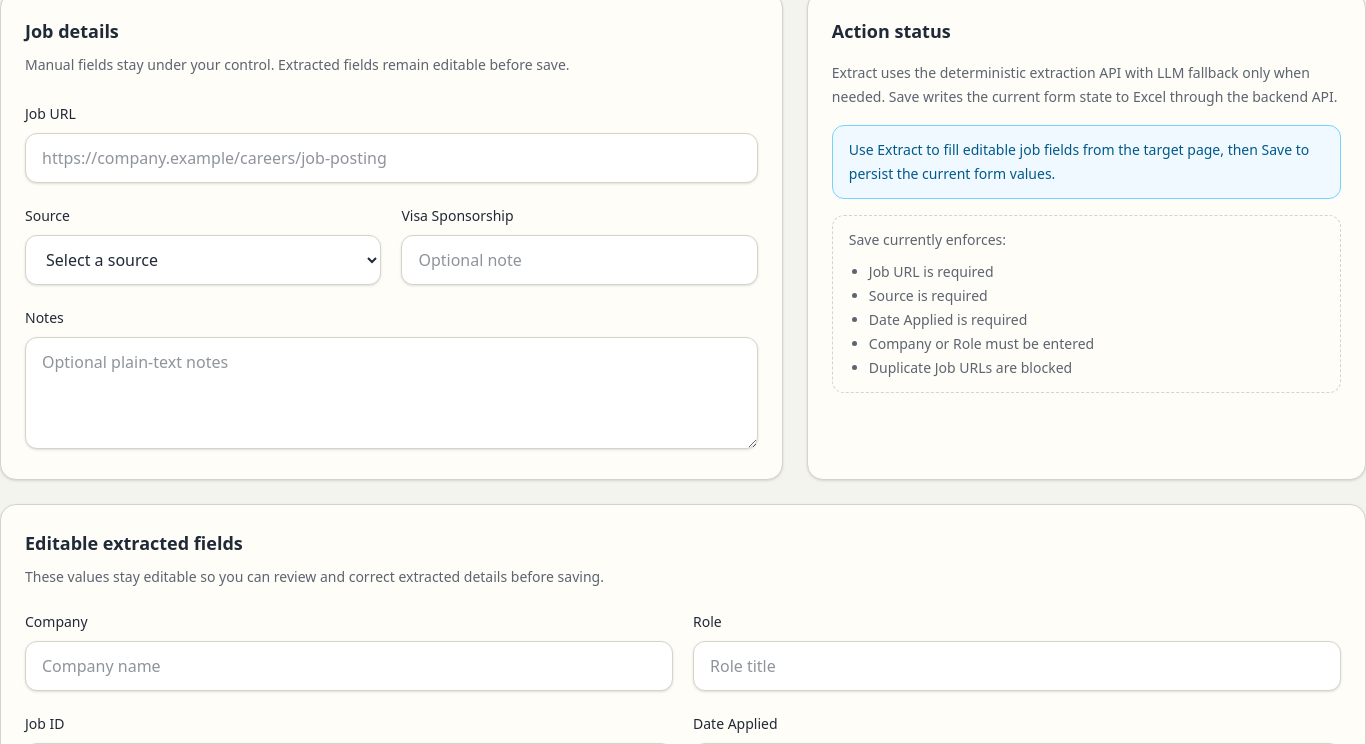
AddJobForm › preserves user-entered extracted fields when extraction returns data
The width and height of the screenshot is (1366, 744).
In the field labelled "Job URL": (391,158) 25,133 -> 758,183, type "https://jobs.example.com/frontend-role?utm_source=test"
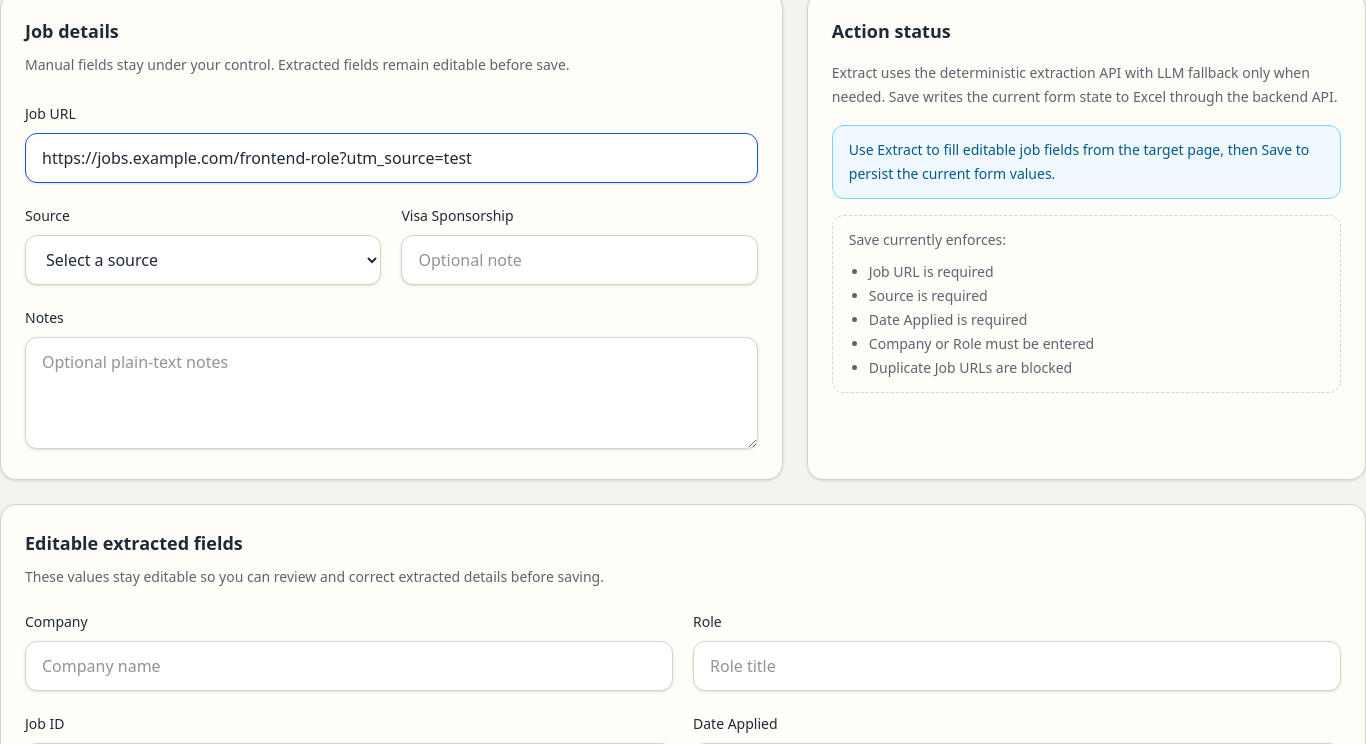
Select "LinkedIn" in the dropdown labelled "Source": (203,260) 25,235 -> 381,285
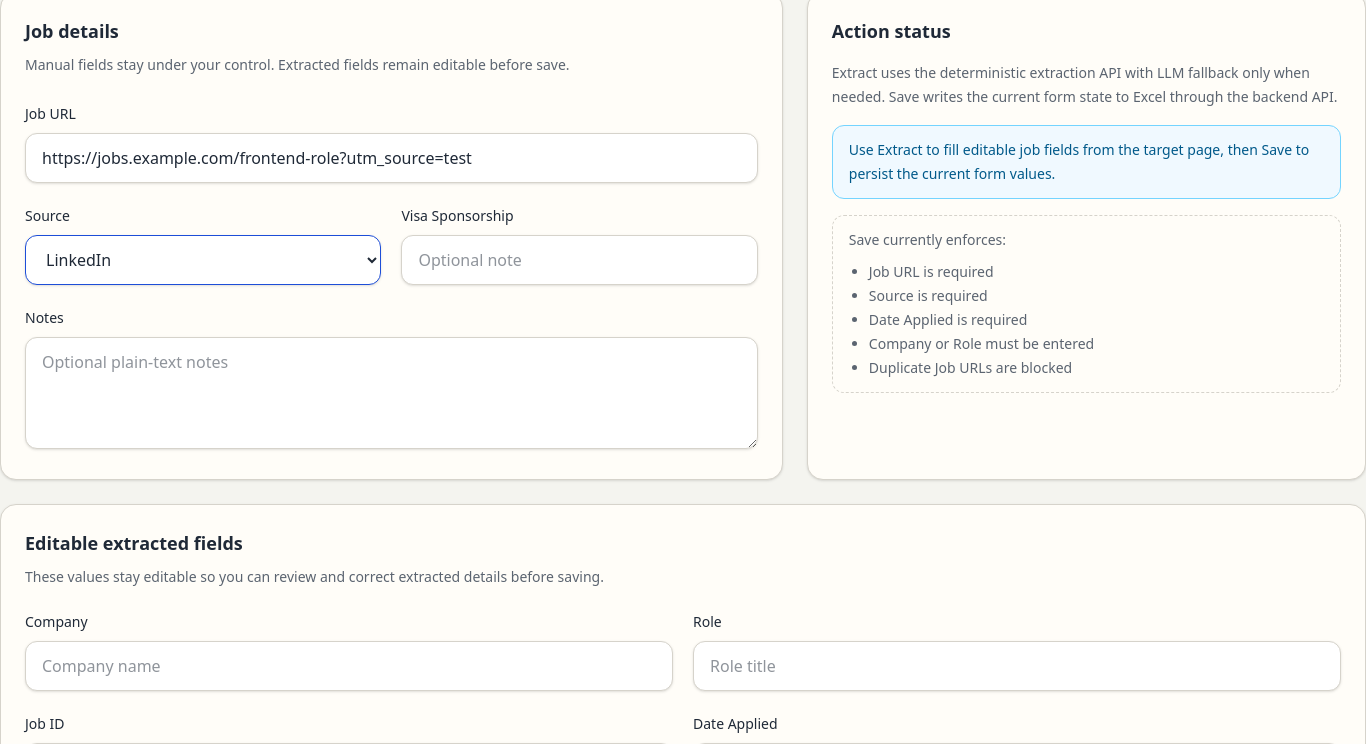
In the field labelled "Company": (349,666) 25,641 -> 673,691, type "Hand Typed Corp"
(page scrolled)
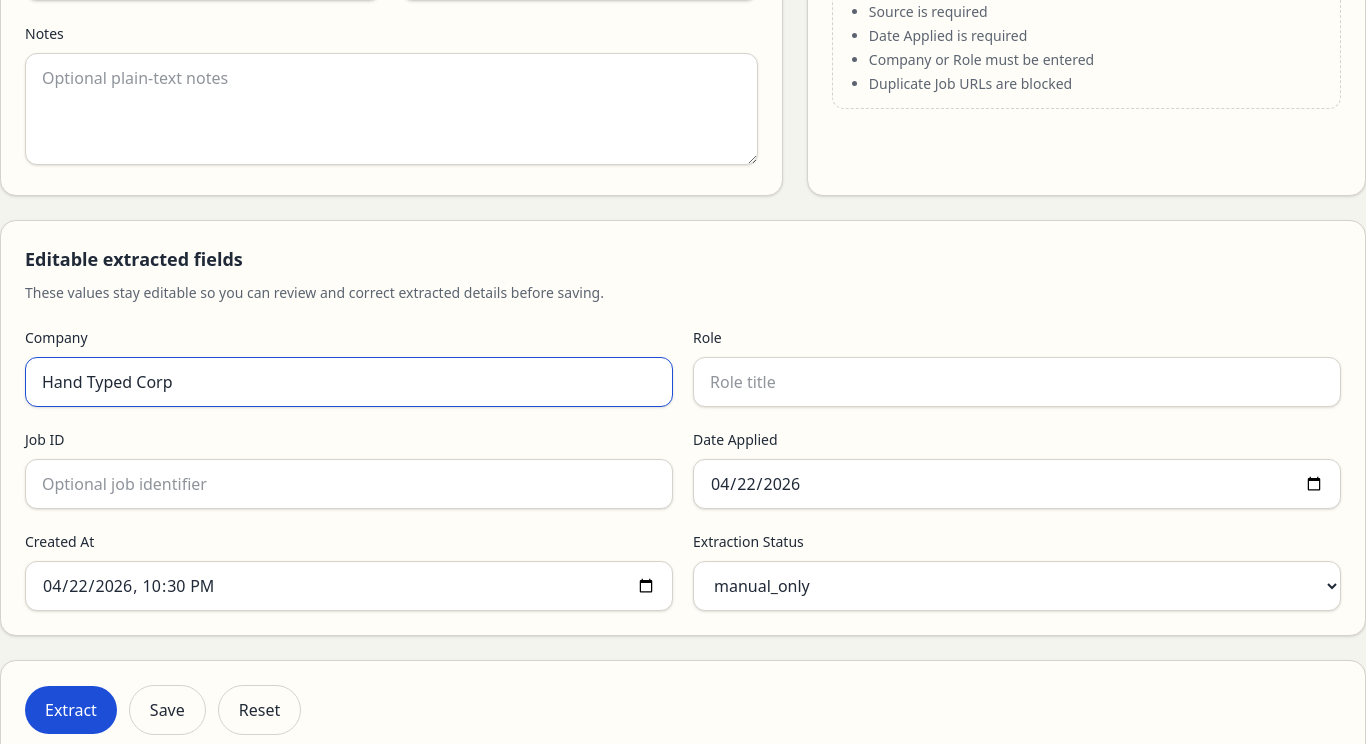
Click the button "Extract": (71,710) 25,686 -> 117,734
(page scrolled)
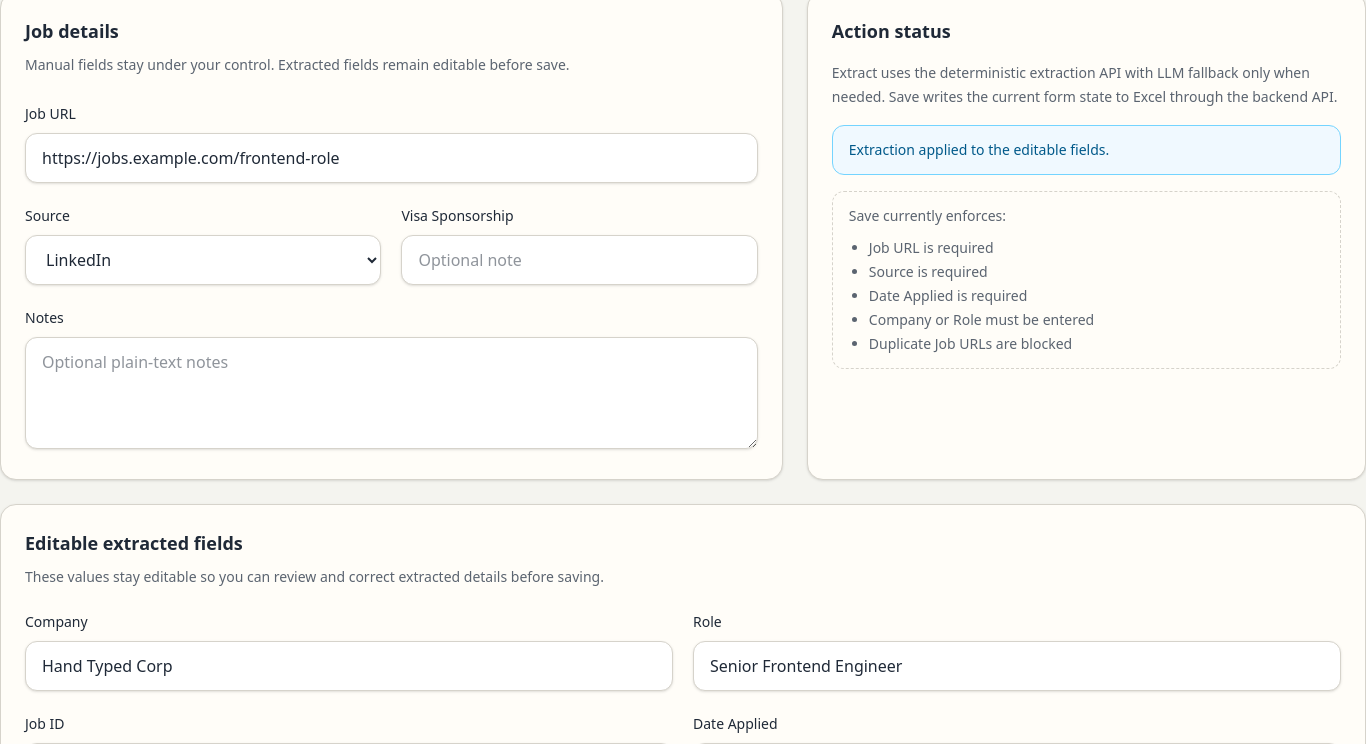
Expected: the field labelled "Role" holds "Senior Frontend Engineer", 693,641 -> 1341,691
Expected: the field labelled "Job URL" holds "https://jobs.example.com/frontend-role", 25,133 -> 758,183
